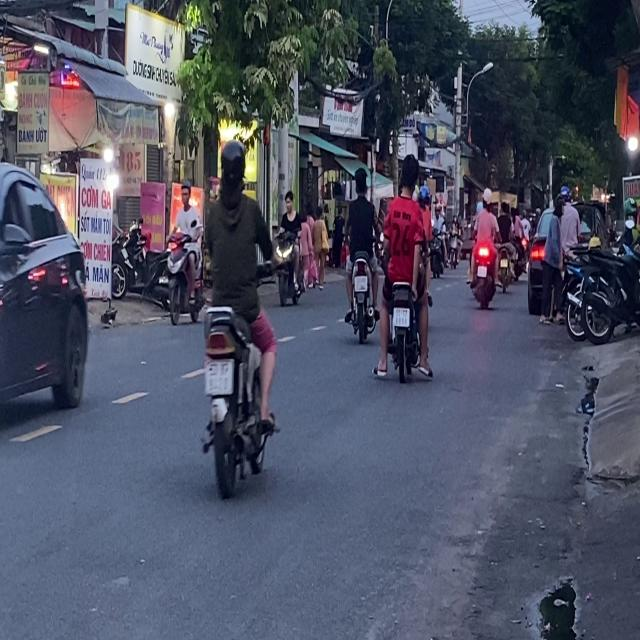helmet: (218, 139, 246, 194), (179, 179, 191, 205)
licenseplate: (197, 136, 280, 500), (378, 152, 434, 382), (342, 163, 381, 342), (164, 178, 203, 326)
motorcyclist: (396, 154, 419, 198), (352, 163, 368, 196)
nohelmet: (204, 359, 233, 394), (393, 307, 409, 326), (354, 276, 367, 290)
